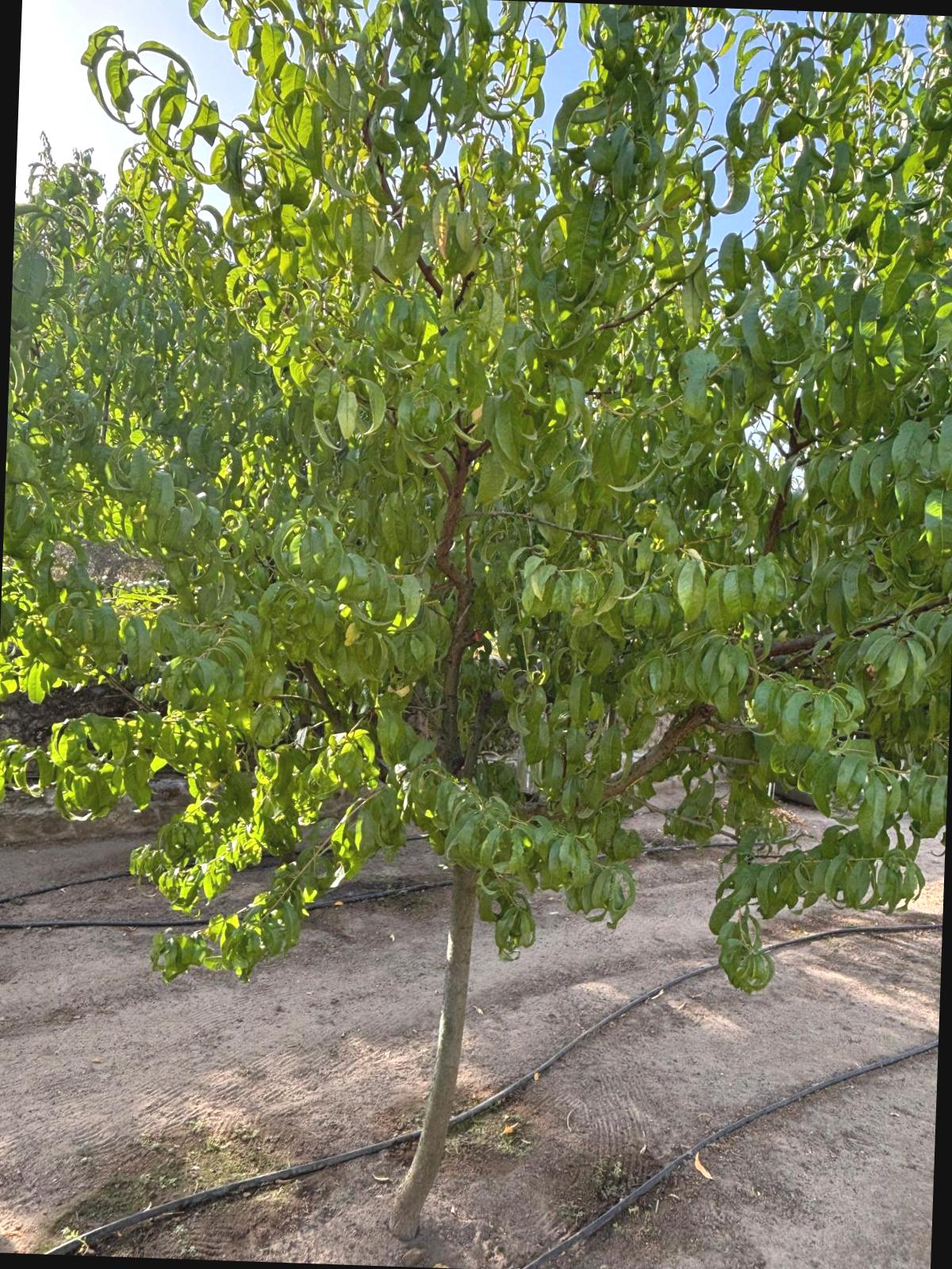melocotonero: (75, 117, 831, 1269)
